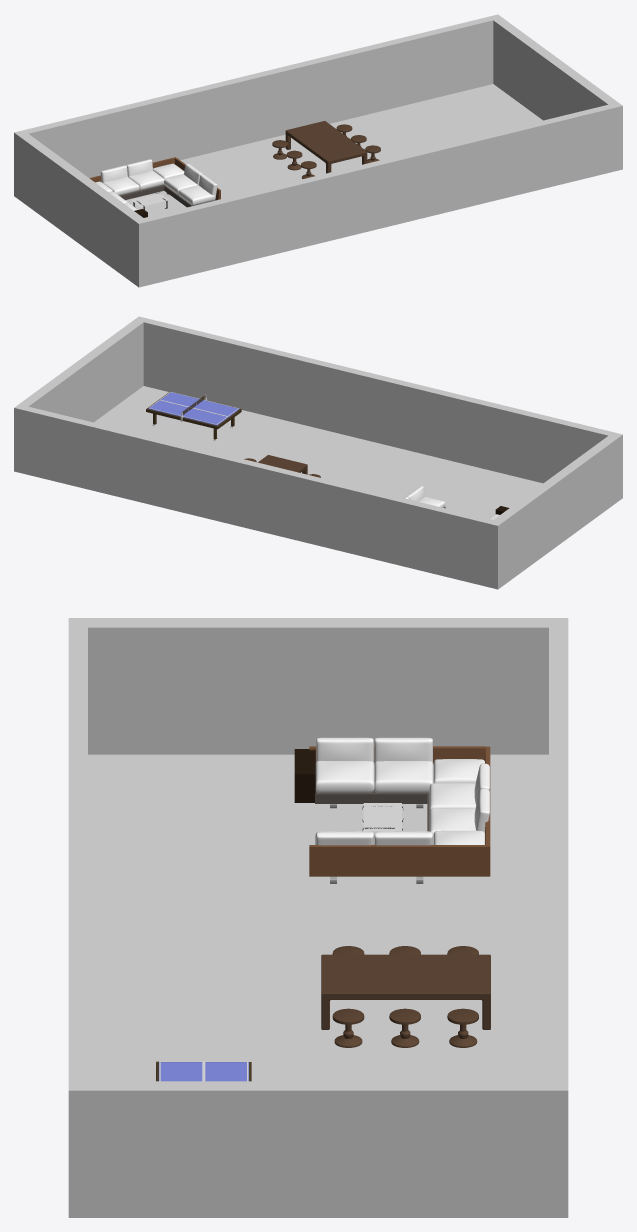
File: Room#1.fbx
3 views of the same model, one above another, from view 1: azimuth 30°, elevation 25°; view 2: azimuth 150°, elevation 25°; view 3: azimuth 270°, elevation 25° (orthographic). The views are drawn at different scales.
Parts seen in each view (by area): view 1: Wall-Cube, Floor-Plane, Cube.012, Table-Cube.002, Mat-Plane, Cube.007; view 2: Wall-Cube, Floor-Plane, Mat-Plane, tt table, Table-Cube.002, Cube.012; view 3: Wall-Cube, Floor-Plane, Mat-Plane, Cube.012, Table-Cube.002, Cube.003, tt table, Cube.007, Cube, Plane, Stool-Cylinder.001, Stool-Cylinder.002 (+1 smaller).
Part boxes in pixels (box(x1,y1,x2,y2)): Wall-Cube: box(14, 14, 622, 287); Floor-Plane: box(180, 84, 542, 197); Cube.012: box(95, 159, 217, 210); Table-Cube.002: box(285, 121, 367, 173); Mat-Plane: box(125, 191, 227, 216); Cube.007: box(119, 184, 215, 207); Wall-Cube: box(14, 316, 622, 589); Floor-Plane: box(94, 386, 542, 497); Mat-Plane: box(424, 467, 536, 518); tt table: box(146, 392, 241, 440); Table-Cube.002: box(258, 455, 307, 474); Cube.012: box(404, 486, 499, 519); Wall-Cube: box(68, 618, 568, 1217); Floor-Plane: box(88, 754, 548, 1081); Mat-Plane: box(112, 767, 523, 900); Cube.012: box(315, 737, 489, 845); Table-Cube.002: box(321, 954, 490, 1029); Cube.003: box(309, 746, 490, 876); tt table: box(156, 1061, 251, 1081); Cube.007: box(315, 789, 429, 831); Cube: box(294, 749, 315, 802); Plane: box(363, 803, 401, 831); Stool-Cylinder.001: box(332, 1008, 364, 1047); Stool-Cylinder.002: box(447, 1008, 478, 1047).
Bounding box in the file's own units: 11145 × 1400 × 4982.
